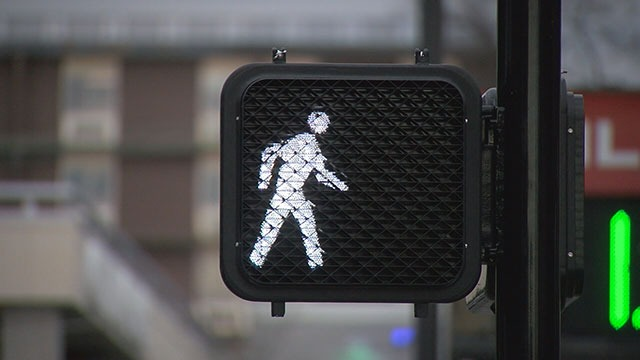pedestrian_walk: (223, 65, 486, 300)
